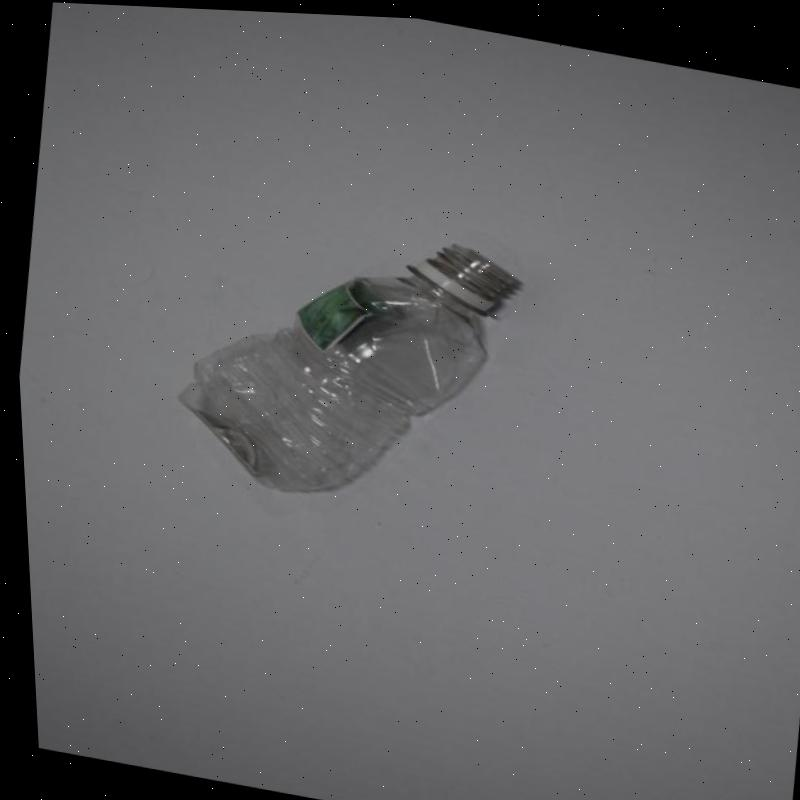botella: (152, 191, 531, 527)
